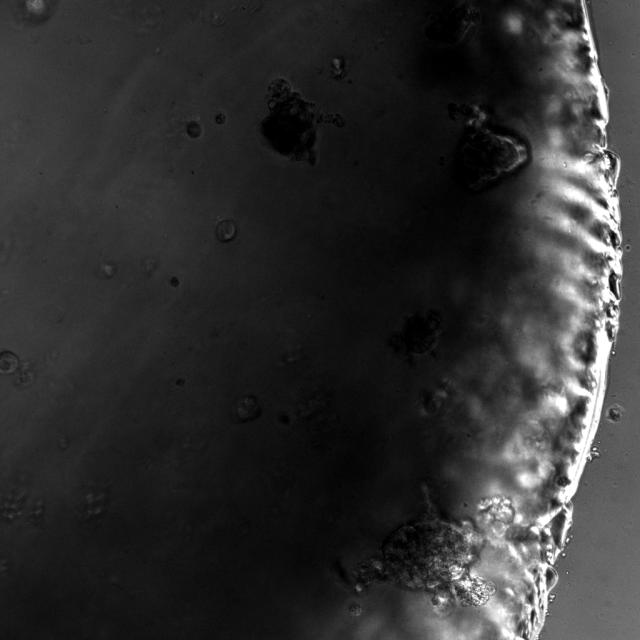organoid: (348, 496, 514, 617), (457, 105, 530, 191), (261, 79, 323, 163), (0, 492, 45, 524), (82, 487, 108, 522), (236, 396, 261, 421), (14, 363, 34, 387), (216, 219, 236, 241), (0, 351, 18, 374), (186, 121, 201, 138), (349, 602, 362, 617), (216, 113, 226, 124), (169, 276, 179, 287)
